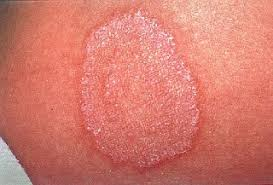tina: (67, 19, 214, 171)
